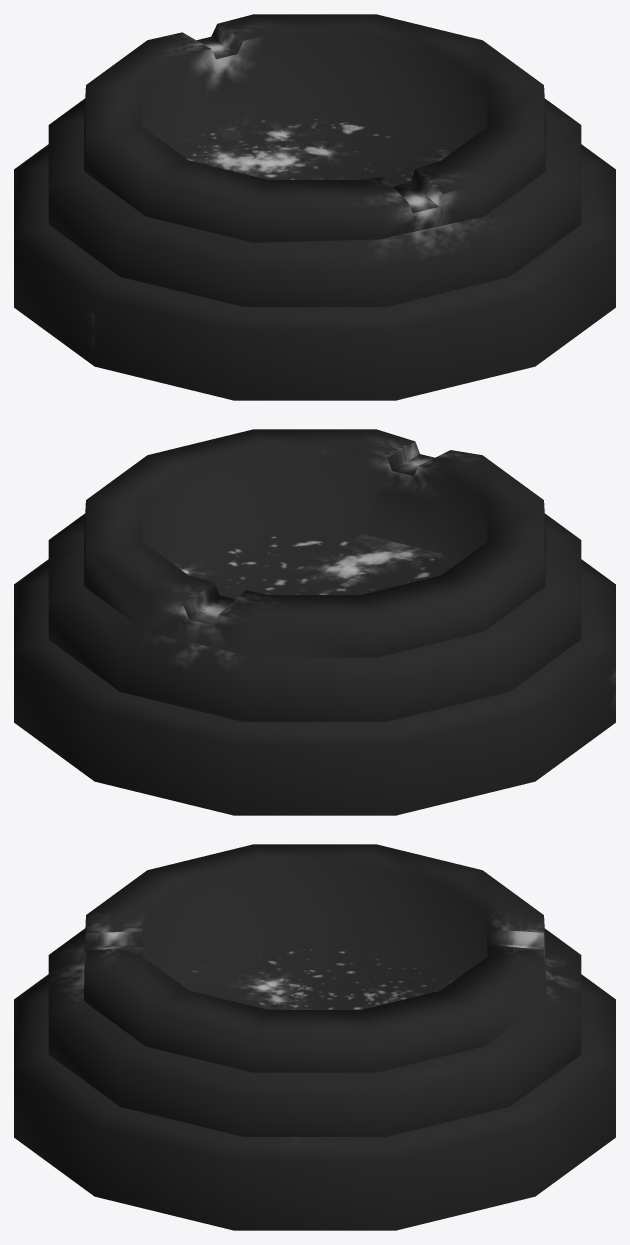
The model's file is ashtray.fbx.
The picture shows the model from 3 angles, top to bottom: view 1: azimuth 30°, elevation 25°; view 2: azimuth 150°, elevation 25°; view 3: azimuth 270°, elevation 25°; orthographic projection.
Visible parts, largest first — view 1: ashtray; view 2: ashtray; view 3: ashtray.
Part boxes in pixels (bbox=[...]): ashtray: bbox=[14, 14, 615, 400]; ashtray: bbox=[14, 429, 615, 815]; ashtray: bbox=[14, 844, 615, 1230].
Bounding box in the file's own units: 0.1646 × 0.0502 × 0.1646.
1 material, 1 textured.
